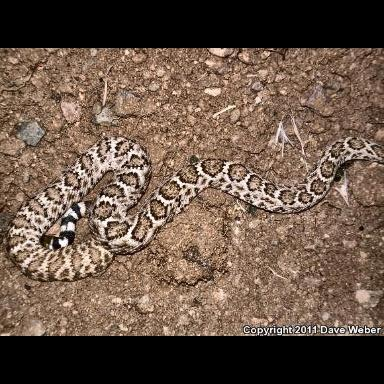snake: (0, 133, 384, 291)
